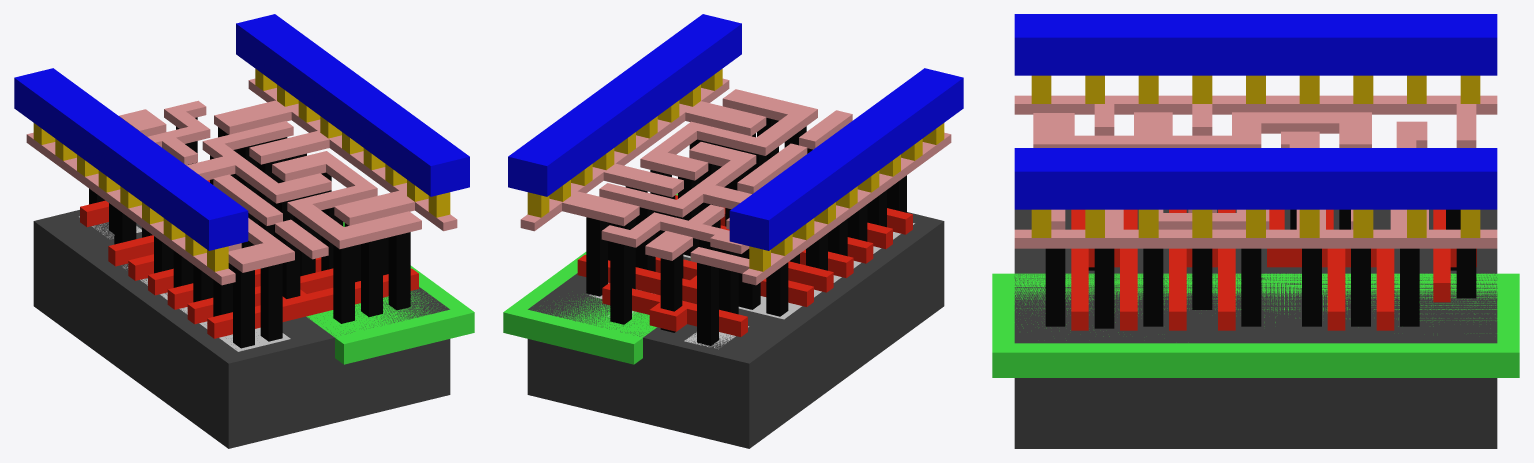
File: sky130_fd_sc_hd__o21bai_2.obj
3 renders of one model, left to right at view 1: azimuth 30°, elevation 25°; view 2: azimuth 150°, elevation 25°; view 3: azimuth 270°, elevation 25°, orthographic. The views are drawn at different scales.
Visible parts, largest first — view 1: subs, metal1, li, licon, poly, nwell, mcon, diff; view 2: subs, metal1, li, licon, poly, nwell, mcon, diff; view 3: metal1, subs, li, nwell, licon, poly, mcon.
Part boxes in pixels (left/top/right/bottom): subs: left=33, top=210, right=450, bottom=448; metal1: left=14, top=14, right=469, bottom=250; li: left=26, top=78, right=457, bottom=285; licon: left=89, top=117, right=410, bottom=348; poly: left=80, top=180, right=418, bottom=338; nwell: left=306, top=222, right=474, bottom=364; mcon: left=33, top=68, right=450, bottom=271; diff: left=79, top=216, right=290, bottom=351; subs: left=527, top=212, right=944, bottom=448; metal1: left=508, top=14, right=963, bottom=250; li: left=520, top=78, right=951, bottom=285; licon: left=586, top=118, right=906, bottom=345; poly: left=577, top=195, right=912, bottom=336; nwell: left=503, top=193, right=690, bottom=364; mcon: left=527, top=68, right=944, bottom=271; diff: left=684, top=223, right=914, bottom=349; metal1: left=1014, top=14, right=1497, bottom=209; subs: left=1014, top=209, right=1497, bottom=448; li: left=1014, top=95, right=1497, bottom=248; nwell: left=992, top=273, right=1519, bottom=377; licon: left=1045, top=209, right=1476, bottom=328; poly: left=1071, top=209, right=1476, bottom=330; mcon: left=1031, top=75, right=1480, bottom=237.
Bounding box in the file's own units: 3.2 × 2.74 × 4.52.
